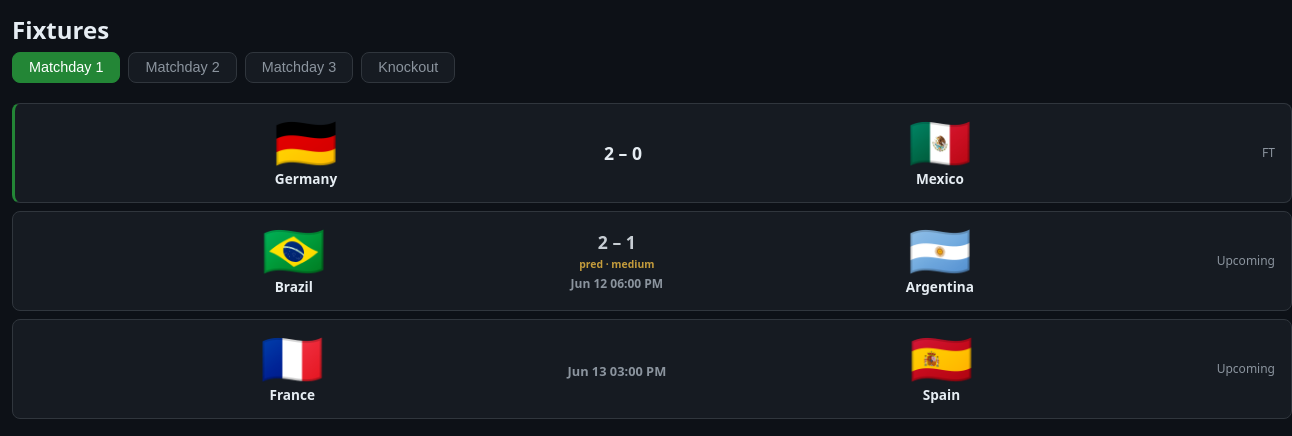
Test: switching to Knockout tab shows coming-soon when no knockout predictions
Step 1. Click the tab "Knockout" → [408, 67], box [361, 52, 455, 83]
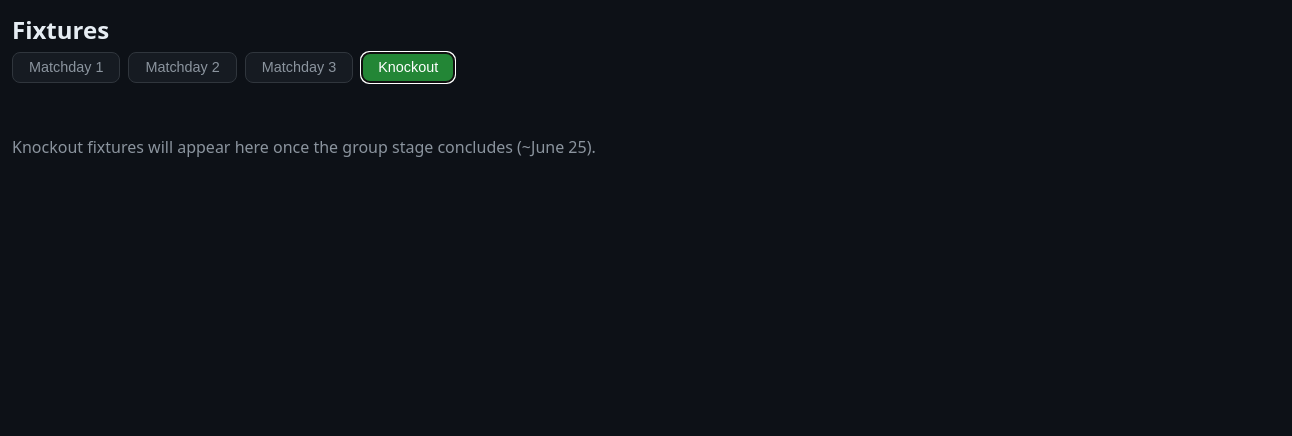
Now the text "group stage concludes" is shown, box [12, 136, 596, 158]
